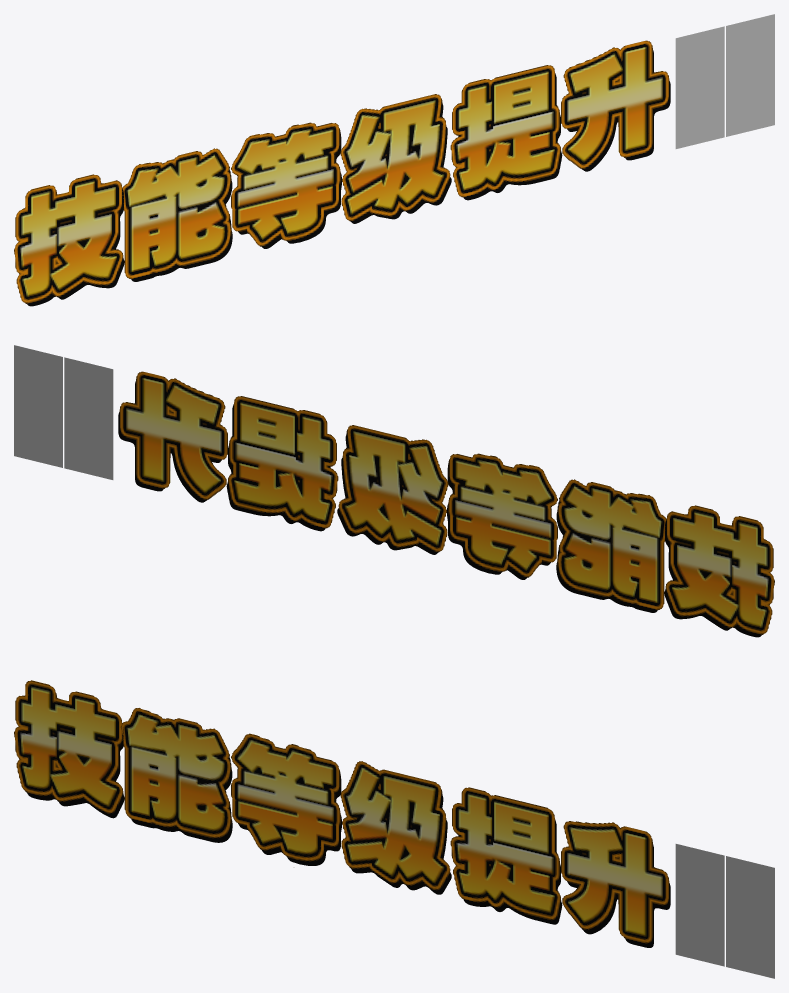
File: GUI_skillup.FBX
3 views of the same model, one above another, from view 1: azimuth 30°, elevation 25°; view 2: azimuth 150°, elevation 25°; view 3: azimuth 330°, elevation 25° (orthographic).
Visible parts, largest first — view 1: GUI_skillup_5, GUI_skillup_2, GUI_skillup_1, GUI_skillup_3, GUI_skillup_4, GUI_skillup_6, GUI_skillup_7, GUI_skillup_8; view 2: GUI_skillup_5, GUI_skillup_2, GUI_skillup_1, GUI_skillup_3, GUI_skillup_4, GUI_skillup_6, GUI_skillup_7, GUI_skillup_8; view 3: GUI_skillup_2, GUI_skillup_5, GUI_skillup_1, GUI_skillup_3, GUI_skillup_4, GUI_skillup_6, GUI_skillup_7, GUI_skillup_8.
Part boxes in pixels (bbox=[...]): GUI_skillup_5: bbox=[450, 65, 562, 200]; GUI_skillup_2: bbox=[122, 148, 232, 281]; GUI_skillup_1: bbox=[14, 174, 124, 306]; GUI_skillup_3: bbox=[231, 122, 341, 248]; GUI_skillup_4: bbox=[340, 94, 451, 223]; GUI_skillup_6: bbox=[561, 40, 670, 171]; GUI_skillup_7: bbox=[675, 26, 724, 148]; GUI_skillup_8: bbox=[726, 14, 774, 136]; GUI_skillup_5: bbox=[226, 396, 338, 531]; GUI_skillup_2: bbox=[556, 479, 666, 612]; GUI_skillup_1: bbox=[664, 505, 774, 637]; GUI_skillup_3: bbox=[447, 453, 557, 579]; GUI_skillup_4: bbox=[337, 425, 448, 554]; GUI_skillup_6: bbox=[118, 371, 227, 502]; GUI_skillup_7: bbox=[64, 357, 113, 479]; GUI_skillup_8: bbox=[14, 345, 62, 467]; GUI_skillup_2: bbox=[120, 708, 232, 842]; GUI_skillup_5: bbox=[450, 787, 562, 924]; GUI_skillup_1: bbox=[14, 680, 124, 818]; GUI_skillup_3: bbox=[231, 733, 341, 865]; GUI_skillup_4: bbox=[340, 761, 451, 894]; GUI_skillup_6: bbox=[561, 821, 670, 947]; GUI_skillup_7: bbox=[675, 844, 724, 966]; GUI_skillup_8: bbox=[726, 856, 774, 978].
Size of the model in its own units: 660 by 103 by 4.51e-06.
